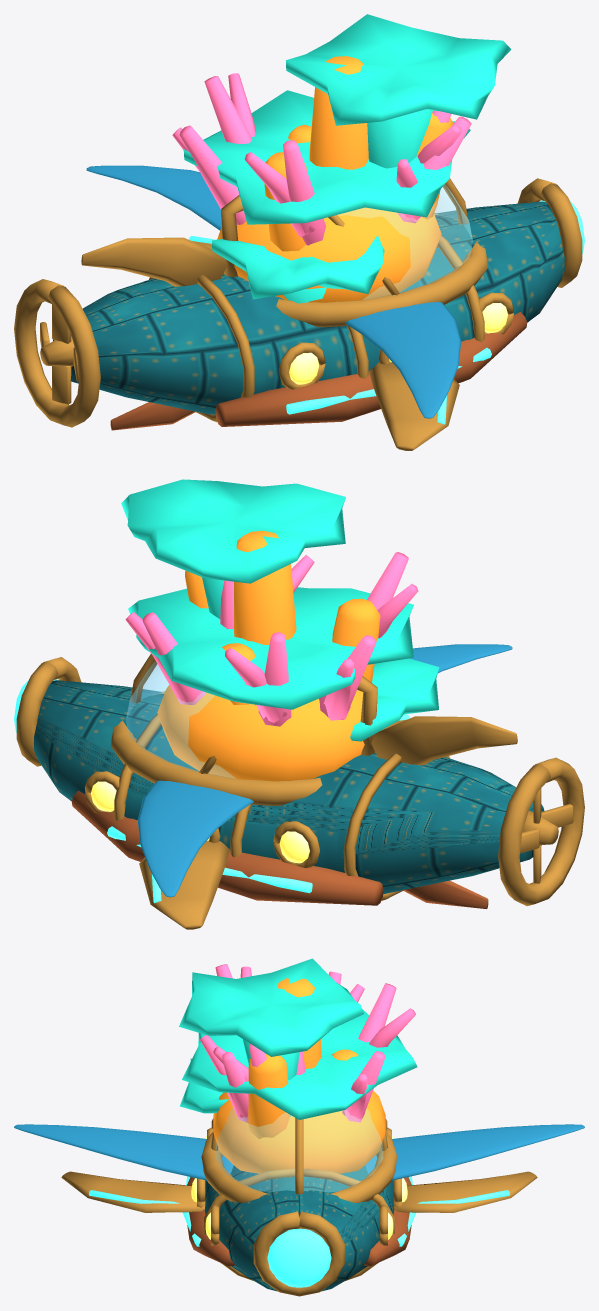
The model's file is pelagian_sub.glb.
The picture shows the model from 3 angles, top to bottom: view 1: azimuth 30°, elevation 25°; view 2: azimuth 150°, elevation 25°; view 3: azimuth 270°, elevation 25°; orthographic projection. The views are drawn at different scales.
Parts seen in each view (by area): view 1: sub_hull, reef_table_coral, reef_tube_sponge, reef_manta, reef_staghorn, sub_canopy, sub_fin_R, sub_propeller; view 2: sub_hull, reef_table_coral, reef_tube_sponge, reef_staghorn, reef_manta, sub_canopy, sub_fin_L, sub_propeller; view 3: sub_hull, reef_table_coral, reef_tube_sponge, sub_canopy, reef_manta, reef_staghorn, sub_fin_R, sub_fin_L.
Part boxes in pixels (x1,y1,x2,y2): sub_hull: (14,178,584,430); reef_table_coral: (183,14,511,303); reef_tube_sponge: (217,56,453,302); reef_manta: (86,165,461,418); reef_staghorn: (172,73,471,245); sub_canopy: (328,178,472,299); sub_fin_R: (369,362,459,450); sub_propeller: (40,304,79,404); sub_hull: (14,657,584,908); reef_table_coral: (121,479,439,741); reef_tube_sponge: (157,530,380,781); reef_staghorn: (125,552,418,726); reef_manta: (137,644,512,897); sub_canopy: (126,654,255,778); sub_fin_L: (139,840,229,929); sub_propeller: (520,788,573,883); sub_hull: (182,1118,415,1296); reef_table_coral: (179,958,417,1119); reef_tube_sponge: (213,978,385,1173); sub_canopy: (211,1108,387,1194); reef_manta: (14,1124,584,1180); reef_staghorn: (200,964,415,1122); sub_fin_R: (61,1171,204,1212); sub_fin_L: (394,1171,537,1212).
Bounding box in the file's own units: 2.55 × 1.59 × 2.84.
Materials: 12 (3 with a texture image).
